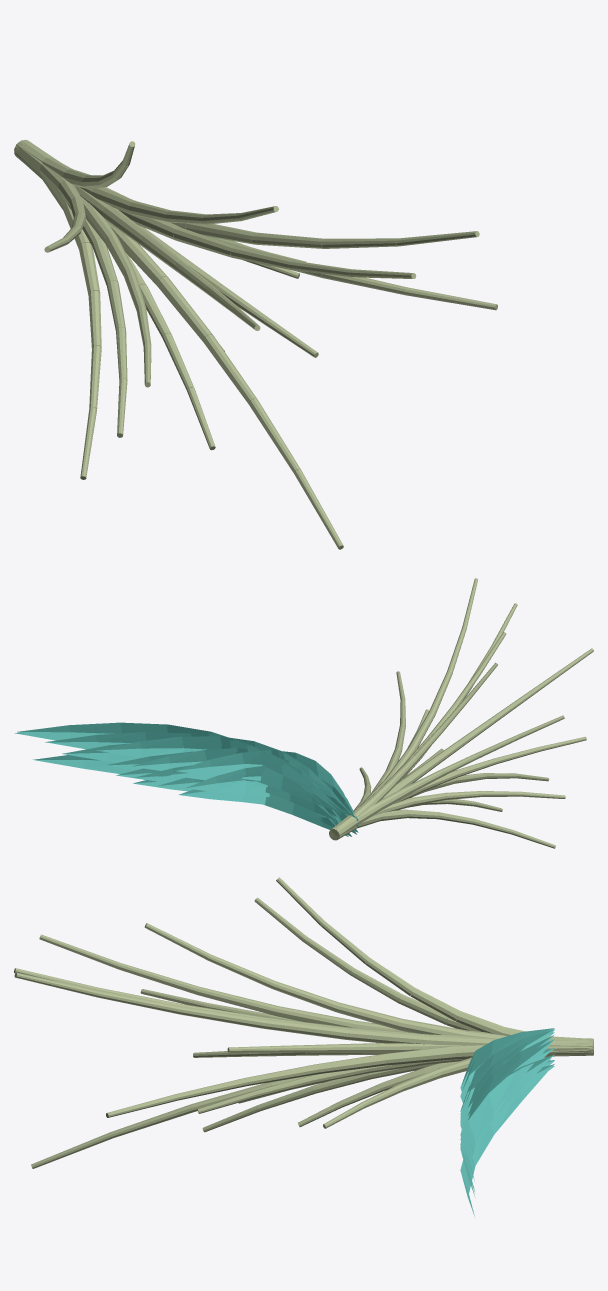
File: Aquarion_Shallow_Reed.glb
3 renders of one model, top to bottom at view 1: azimuth 30°, elevation 25°; view 2: azimuth 150°, elevation 25°; view 3: azimuth 270°, elevation 25°, orthographic. The views are drawn at different scales.
Visible parts, largest first — view 1: Aquarion_Shallow_Reed_blade_stem_12_3, Aquarion_Shallow_Reed_blade_stem_12_4, Aquarion_Shallow_Reed_blade_stem_12_2, Aquarion_Shallow_Reed_blade_stem_2_4, Aquarion_Shallow_Reed_blade_stem_2_3, Aquarion_Shallow_Reed_blade_stem_3_3, Aquarion_Shallow_Reed_blade_stem_12_5, Aquarion_Shallow_Reed_blade_stem_6_2, Aquarion_Shallow_Reed_blade_stem_2_5, Aquarion_Shallow_Reed_blade_stem_0_6, Aquarion_Shallow_Reed_blade_stem_12_6, Aquarion_Shallow_Reed_blade_stem_3_4 (+1 smaller); view 2: Aquarion_Shallow_Reed_blade_4_0, Aquarion_Shallow_Reed_blade_3_0, Aquarion_Shallow_Reed_blade_2_0, Aquarion_Shallow_Reed_blade_5_0, Aquarion_Shallow_Reed_blade_6_0, Aquarion_Shallow_Reed_blade_12_0, Aquarion_Shallow_Reed_blade_15_0, Aquarion_Shallow_Reed_blade_0_0, Aquarion_Shallow_Reed_blade_1_0, Aquarion_Shallow_Reed_blade_13_0, Aquarion_Shallow_Reed_blade_7_0, Aquarion_Shallow_Reed_blade_8_0 (+3 smaller); view 3: Aquarion_Shallow_Reed_blade_2_0, Aquarion_Shallow_Reed_blade_12_0, Aquarion_Shallow_Reed_blade_stem_2_2, Aquarion_Shallow_Reed_blade_stem_2_3, Aquarion_Shallow_Reed_blade_3_0, Aquarion_Shallow_Reed_blade_4_0, Aquarion_Shallow_Reed_blade_stem_0_2, Aquarion_Shallow_Reed_blade_5_0, Aquarion_Shallow_Reed_blade_stem_2_4, Aquarion_Shallow_Reed_blade_stem_6_3, Aquarion_Shallow_Reed_blade_stem_6_4, Aquarion_Shallow_Reed_blade_stem_0_3 (+22 smaller).
Part boxes in pixels (bbox=[...]): Aquarion_Shallow_Reed_blade_stem_12_3: bbox=[157, 276, 213, 341]; Aquarion_Shallow_Reed_blade_stem_12_4: bbox=[203, 334, 257, 404]; Aquarion_Shallow_Reed_blade_stem_12_2: bbox=[112, 227, 168, 285]; Aquarion_Shallow_Reed_blade_stem_2_4: bbox=[251, 232, 325, 248]; Aquarion_Shallow_Reed_blade_stem_2_3: bbox=[185, 223, 255, 244]; Aquarion_Shallow_Reed_blade_stem_3_3: bbox=[173, 227, 236, 257]; Aquarion_Shallow_Reed_blade_stem_12_5: bbox=[249, 398, 300, 472]; Aquarion_Shallow_Reed_blade_stem_6_2: bbox=[102, 205, 149, 246]; Aquarion_Shallow_Reed_blade_stem_2_5: bbox=[321, 238, 398, 248]; Aquarion_Shallow_Reed_blade_stem_0_6: bbox=[404, 287, 497, 310]; Aquarion_Shallow_Reed_blade_stem_12_6: bbox=[294, 469, 343, 549]; Aquarion_Shallow_Reed_blade_stem_3_4: bbox=[230, 246, 291, 269]; Aquarion_Shallow_Reed_blade_4_0: bbox=[96, 736, 348, 811]; Aquarion_Shallow_Reed_blade_3_0: bbox=[17, 722, 342, 811]; Aquarion_Shallow_Reed_blade_2_0: bbox=[15, 726, 340, 812]; Aquarion_Shallow_Reed_blade_5_0: bbox=[176, 750, 353, 814]; Aquarion_Shallow_Reed_blade_6_0: bbox=[45, 732, 356, 817]; Aquarion_Shallow_Reed_blade_12_0: bbox=[33, 755, 348, 836]; Aquarion_Shallow_Reed_blade_15_0: bbox=[185, 765, 336, 824]; Aquarion_Shallow_Reed_blade_0_0: bbox=[62, 743, 335, 820]; Aquarion_Shallow_Reed_blade_1_0: bbox=[131, 748, 336, 816]; Aquarion_Shallow_Reed_blade_13_0: bbox=[178, 773, 339, 824]; Aquarion_Shallow_Reed_blade_7_0: bbox=[169, 756, 358, 821]; Aquarion_Shallow_Reed_blade_8_0: bbox=[105, 751, 359, 827]; Aquarion_Shallow_Reed_blade_2_0: bbox=[460, 1039, 554, 1197]; Aquarion_Shallow_Reed_blade_12_0: bbox=[460, 1064, 553, 1216]; Aquarion_Shallow_Reed_blade_stem_2_2: bbox=[345, 1028, 429, 1044]; Aquarion_Shallow_Reed_blade_stem_2_3: bbox=[263, 1018, 346, 1039]; Aquarion_Shallow_Reed_blade_3_0: bbox=[460, 1035, 553, 1191]; Aquarion_Shallow_Reed_blade_4_0: bbox=[460, 1029, 554, 1151]; Aquarion_Shallow_Reed_blade_stem_0_2: bbox=[385, 1046, 455, 1065]; Aquarion_Shallow_Reed_blade_5_0: bbox=[460, 1028, 554, 1098]; Aquarion_Shallow_Reed_blade_stem_2_4: bbox=[180, 1006, 264, 1028]; Aquarion_Shallow_Reed_blade_stem_6_3: bbox=[276, 1006, 356, 1027]; Aquarion_Shallow_Reed_blade_stem_6_4: bbox=[197, 987, 278, 1015]; Aquarion_Shallow_Reed_blade_stem_0_3: bbox=[315, 1054, 386, 1074].
Size of the model in its own units: 1.47 by 0.6137 by 1.21.
